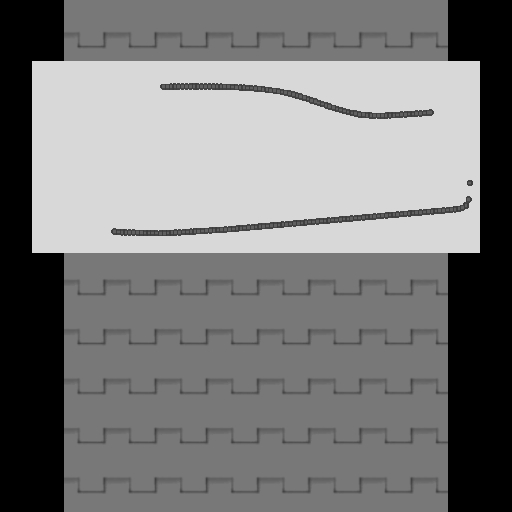Defect: (63, 77, 160, 236)
